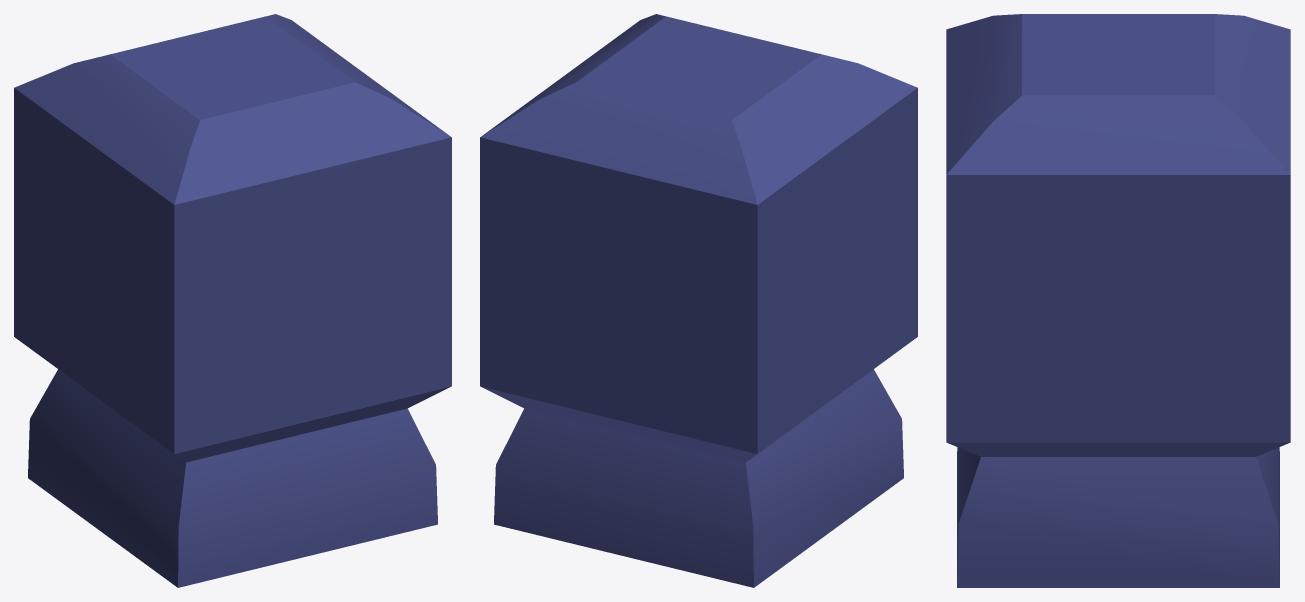
Rendered from obj_interactive_freezer_lod2.fbx.
3 views of the same model, side by side, from view 1: azimuth 30°, elevation 25°; view 2: azimuth 150°, elevation 25°; view 3: azimuth 270°, elevation 25° (orthographic). The views are drawn at different scales.
Parts seen in each view (by area): view 1: Cube.037; view 2: Cube.037; view 3: Cube.037.
Part boxes in pixels (x1,y1,x2,y2): Cube.037: (14, 14, 451, 587); Cube.037: (480, 14, 917, 587); Cube.037: (946, 14, 1290, 587).
Size of the model in its own units: 2.73 by 4.07 by 2.73.
